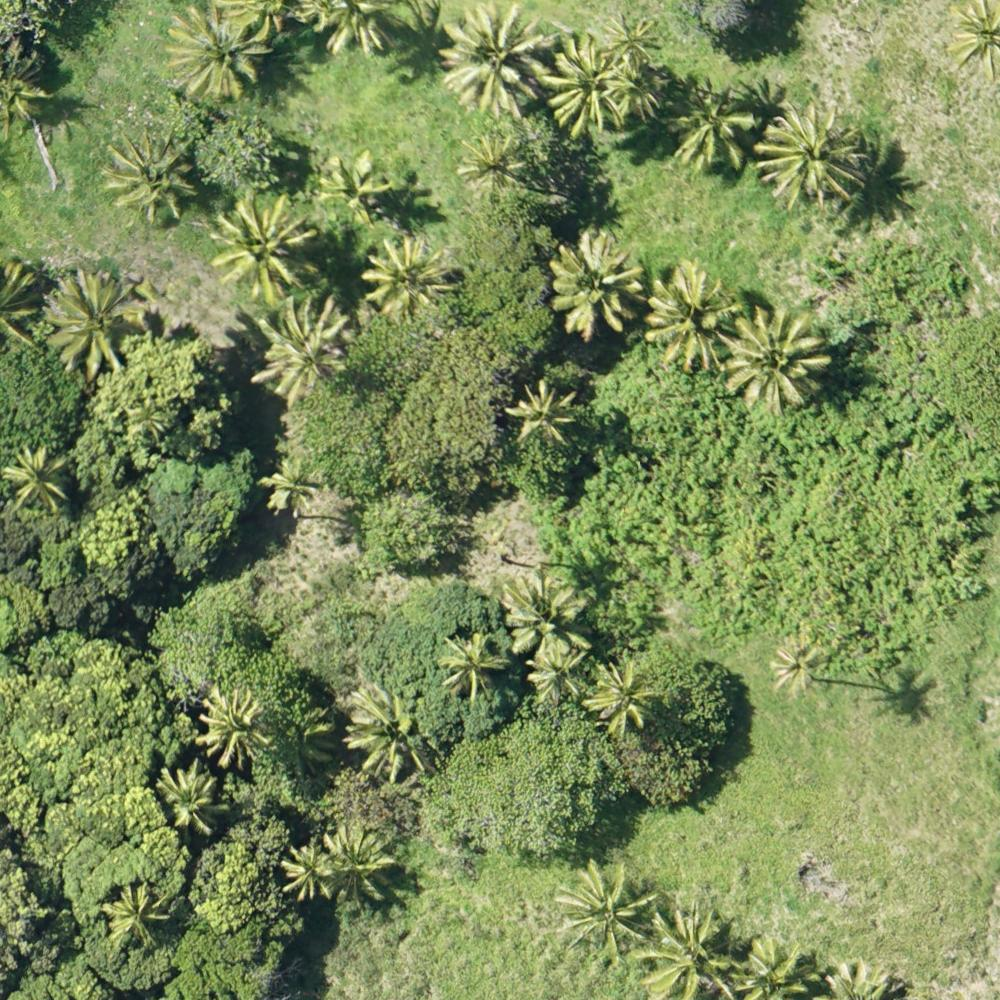Palm: (442, 4, 554, 114), (209, 193, 314, 298), (763, 102, 868, 205), (557, 861, 661, 961), (649, 261, 742, 371), (731, 308, 829, 410), (554, 231, 649, 334), (256, 296, 351, 398), (48, 268, 139, 374), (641, 908, 744, 1000), (103, 126, 202, 221), (167, 6, 269, 95), (342, 683, 439, 776), (549, 36, 634, 129), (496, 567, 586, 651), (364, 234, 455, 316), (671, 81, 755, 169), (323, 824, 398, 908), (317, 151, 395, 228), (197, 691, 275, 768), (151, 765, 228, 836), (457, 132, 531, 205), (586, 661, 658, 728), (438, 633, 507, 702), (507, 381, 576, 448), (98, 882, 166, 946), (5, 447, 67, 513), (608, 55, 667, 119), (276, 844, 337, 901), (524, 648, 586, 702), (765, 635, 826, 689), (265, 459, 320, 518), (606, 10, 663, 66)
